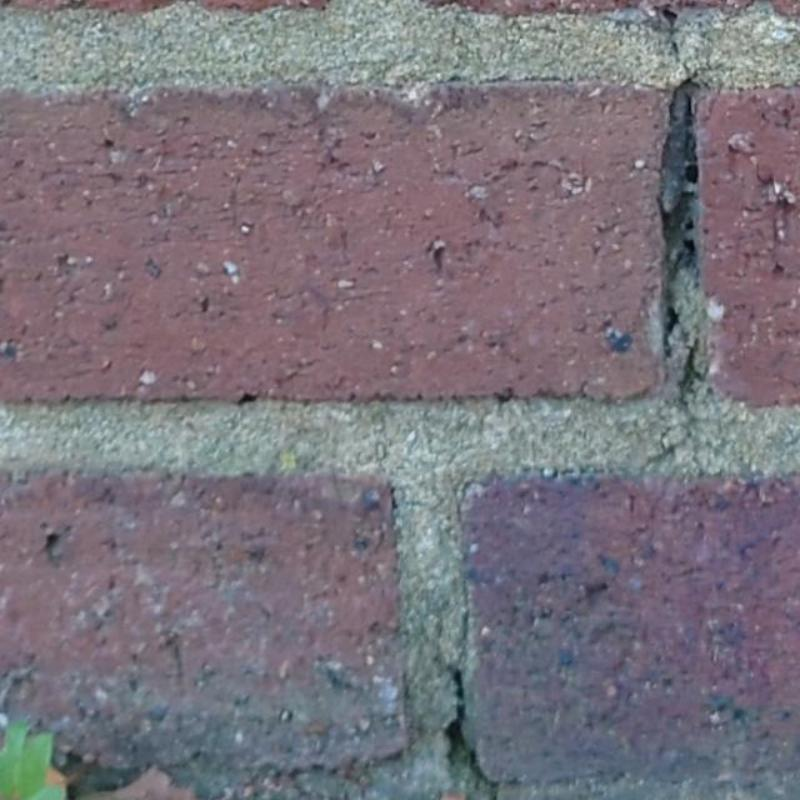pothole: (659, 84, 698, 363), (445, 669, 495, 799), (662, 10, 699, 86), (678, 340, 711, 401)
